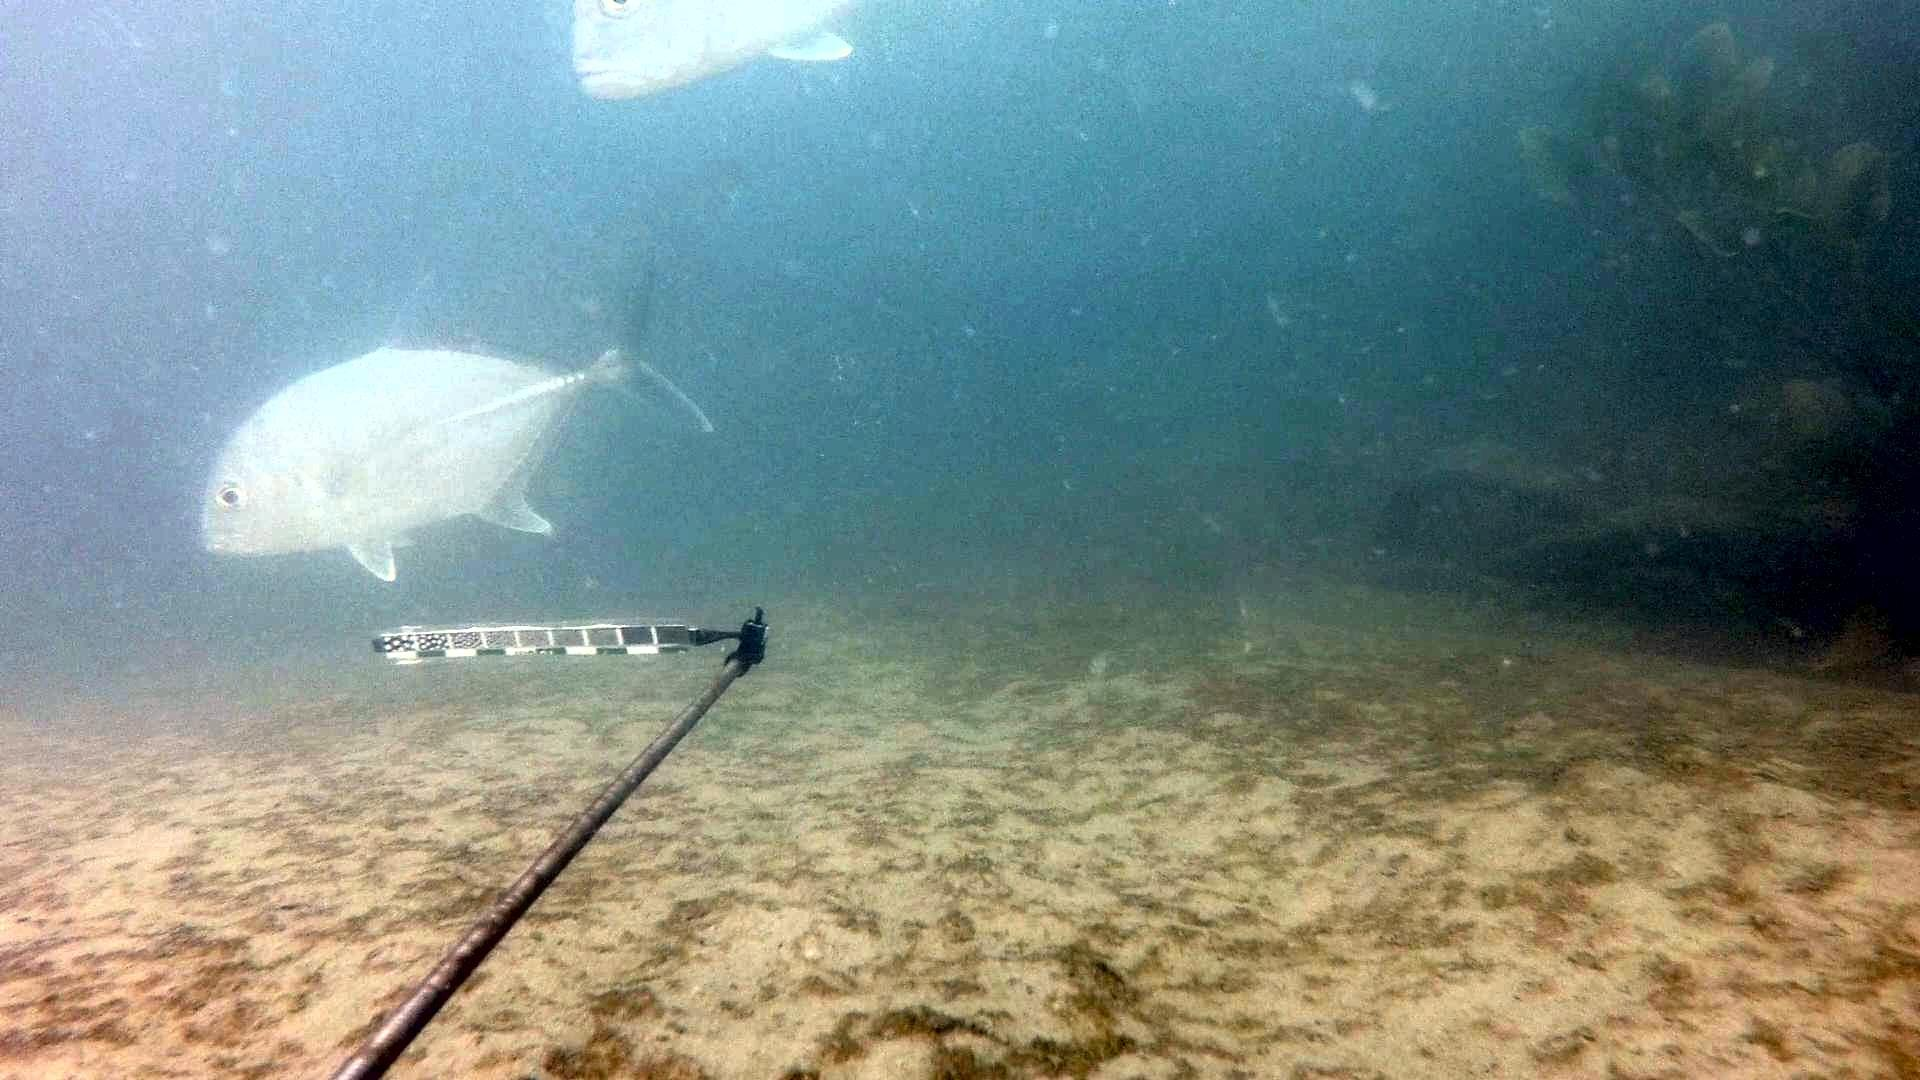caranx: (190, 248, 729, 600)
